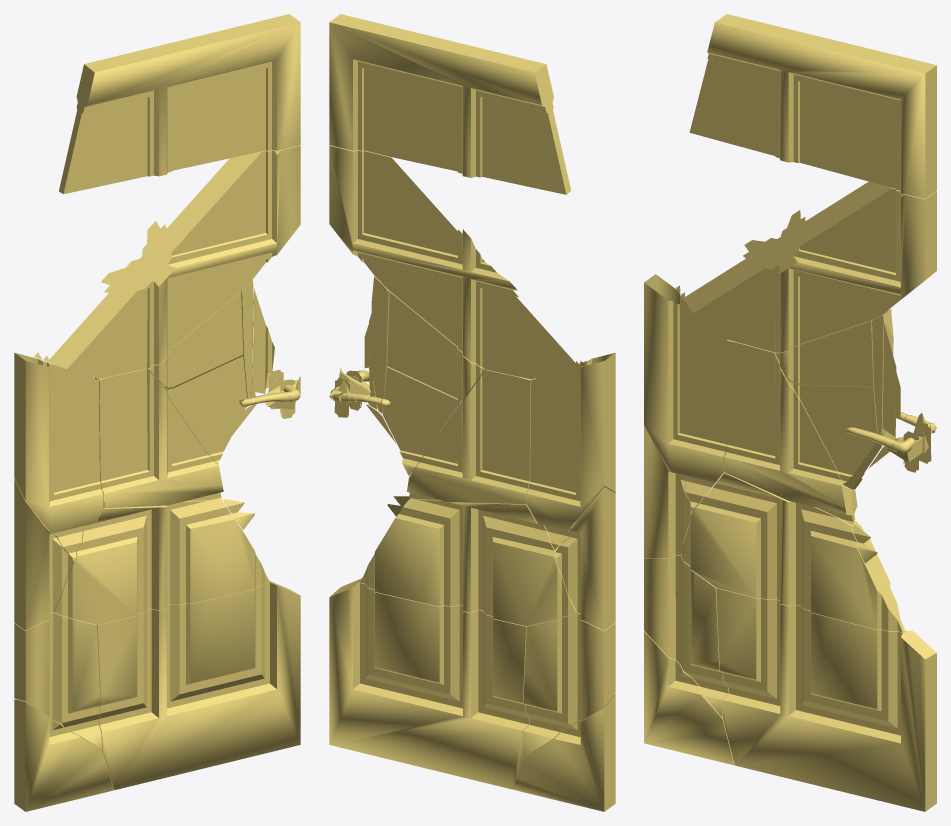
File: Door_in_001_Destroyed.fbx
The picture shows the model from 3 angles, left to right: view 1: azimuth 30°, elevation 25°; view 2: azimuth 150°, elevation 25°; view 3: azimuth 330°, elevation 25°; orthographic projection. The views are drawn at different scales.
Visible parts, largest first — view 1: Door_in_001_cell.038, Door_in_001_cell.021, Door_in_001_cell.033, Door_in_001_cell.023, Door_in_001_cell.011, Door_in_001_cell.035, Door_in_001_cell.004, Door_in_001_cell.020, Door_in_001_cell.031, Door_in_001_cell.001, Door_in_001_cell.052, Door_in_001_cell.046 (+1 smaller); view 2: Door_in_001_cell.038, Door_in_001_cell.021, Door_in_001_cell.033, Door_in_001_cell.023, Door_in_001_cell.011, Door_in_001_cell.035, Door_in_001_cell.004, Door_in_001_cell.020, Door_in_001_cell.031, Door_in_001_cell.052, Door_in_001_cell.001, Door_in_001_cell.024; view 3: Door_in_001_cell.038, Door_in_001_cell.021, Door_in_001_cell.033, Door_in_001_cell.023, Door_in_001_cell.011, Door_in_001_cell.035, Door_in_001_cell.004, Door_in_001_cell.020, Door_in_001_cell.001, Door_in_001_cell.052, Door_in_001_cell.031, Door_in_001_cell.024 (+2 smaller).
Part boxes in pixels (x1,y1,x2,y2): Door_in_001_cell.038: (96, 581, 300, 790); Door_in_001_cell.021: (59, 14, 300, 194); Door_in_001_cell.033: (34, 145, 300, 378); Door_in_001_cell.023: (53, 500, 270, 624); Door_in_001_cell.011: (14, 352, 103, 561); Door_in_001_cell.035: (94, 369, 223, 508); Door_in_001_cell.004: (14, 612, 102, 749); Door_in_001_cell.020: (14, 699, 113, 811); Door_in_001_cell.031: (14, 479, 72, 630); Door_in_001_cell.001: (165, 356, 247, 464); Door_in_001_cell.052: (146, 292, 243, 389); Door_in_001_cell.046: (252, 288, 274, 393); Door_in_001_cell.038: (329, 578, 529, 789); Door_in_001_cell.021: (329, 14, 571, 194); Door_in_001_cell.033: (329, 145, 584, 379); Door_in_001_cell.023: (358, 499, 576, 626); Door_in_001_cell.011: (526, 352, 615, 549); Door_in_001_cell.035: (407, 369, 535, 504); Door_in_001_cell.004: (522, 612, 615, 757); Door_in_001_cell.020: (513, 694, 615, 811); Door_in_001_cell.031: (554, 487, 615, 630); Door_in_001_cell.052: (387, 291, 484, 403); Door_in_001_cell.001: (382, 366, 460, 475); Door_in_001_cell.024: (371, 276, 389, 413); Door_in_001_cell.038: (716, 588, 936, 811); Door_in_001_cell.021: (689, 14, 936, 198); Door_in_001_cell.033: (676, 181, 936, 352); Door_in_001_cell.023: (681, 472, 907, 632); Door_in_001_cell.011: (644, 274, 727, 510); Door_in_001_cell.035: (724, 339, 857, 525); Door_in_001_cell.004: (644, 553, 728, 717); Door_in_001_cell.020: (644, 631, 734, 765); Door_in_001_cell.001: (787, 380, 881, 489); Door_in_001_cell.052: (775, 319, 873, 388); Door_in_001_cell.031: (644, 426, 705, 558); Door_in_001_cell.024: (872, 309, 893, 445).
Size of the model in its own units: 83.29 by 209 by 16.94.
